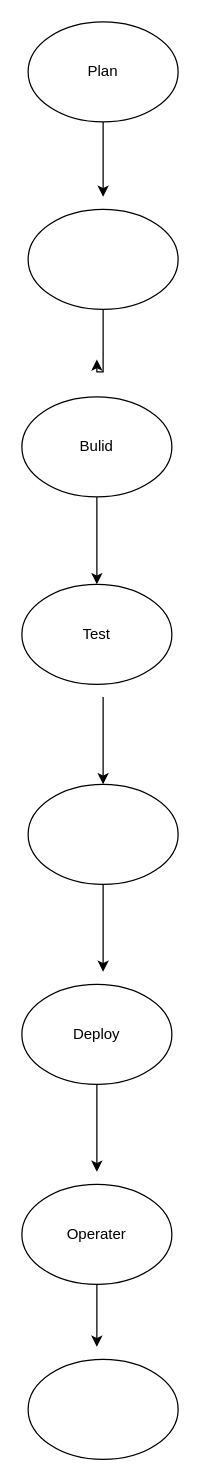
Some shapes in this 200 by 1481 pixel diagram are drawn without their labels. Here are the shapes that lost their labels. From the top down, the box of each, then its label:
(27, 208, 178, 309): .Develop
(27, 783, 178, 884): Release
(27, 1358, 178, 1459): Manintance
